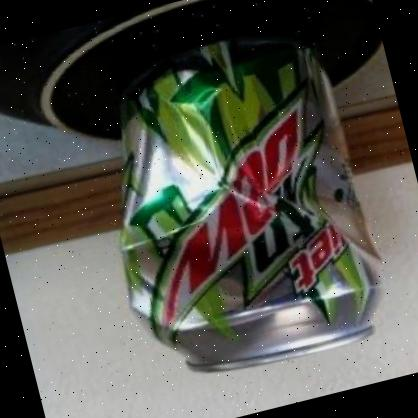can: (73, 16, 397, 392)
